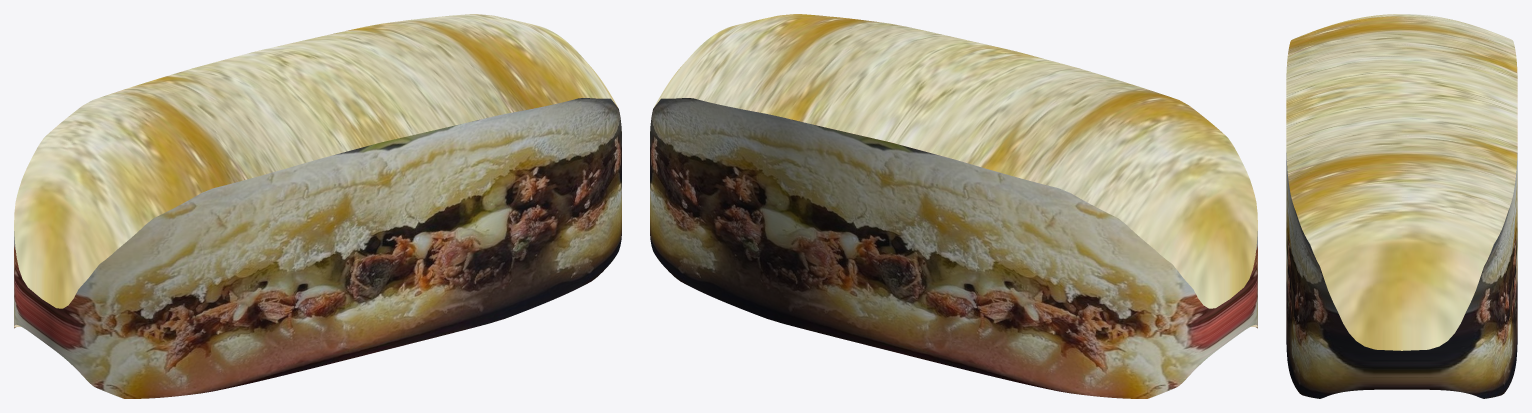
The model's file is desmechado-asado.glb.
3 views of the same model, side by side, from view 1: azimuth 30°, elevation 25°; view 2: azimuth 150°, elevation 25°; view 3: azimuth 270°, elevation 25° (orthographic). The views are drawn at different scales.
Parts seen in each view (by area): view 1: plato; view 2: plato; view 3: plato.
Part boxes in pixels (x1=…): plato: x1=14, y1=14, x2=621, y2=398; plato: x1=650, y1=14, x2=1257, y2=398; plato: x1=1286, y1=14, x2=1517, y2=398.
Bounding box in the file's own units: 0.23 × 0.0941 × 0.09.
Materials: 2 (1 with a texture image).
